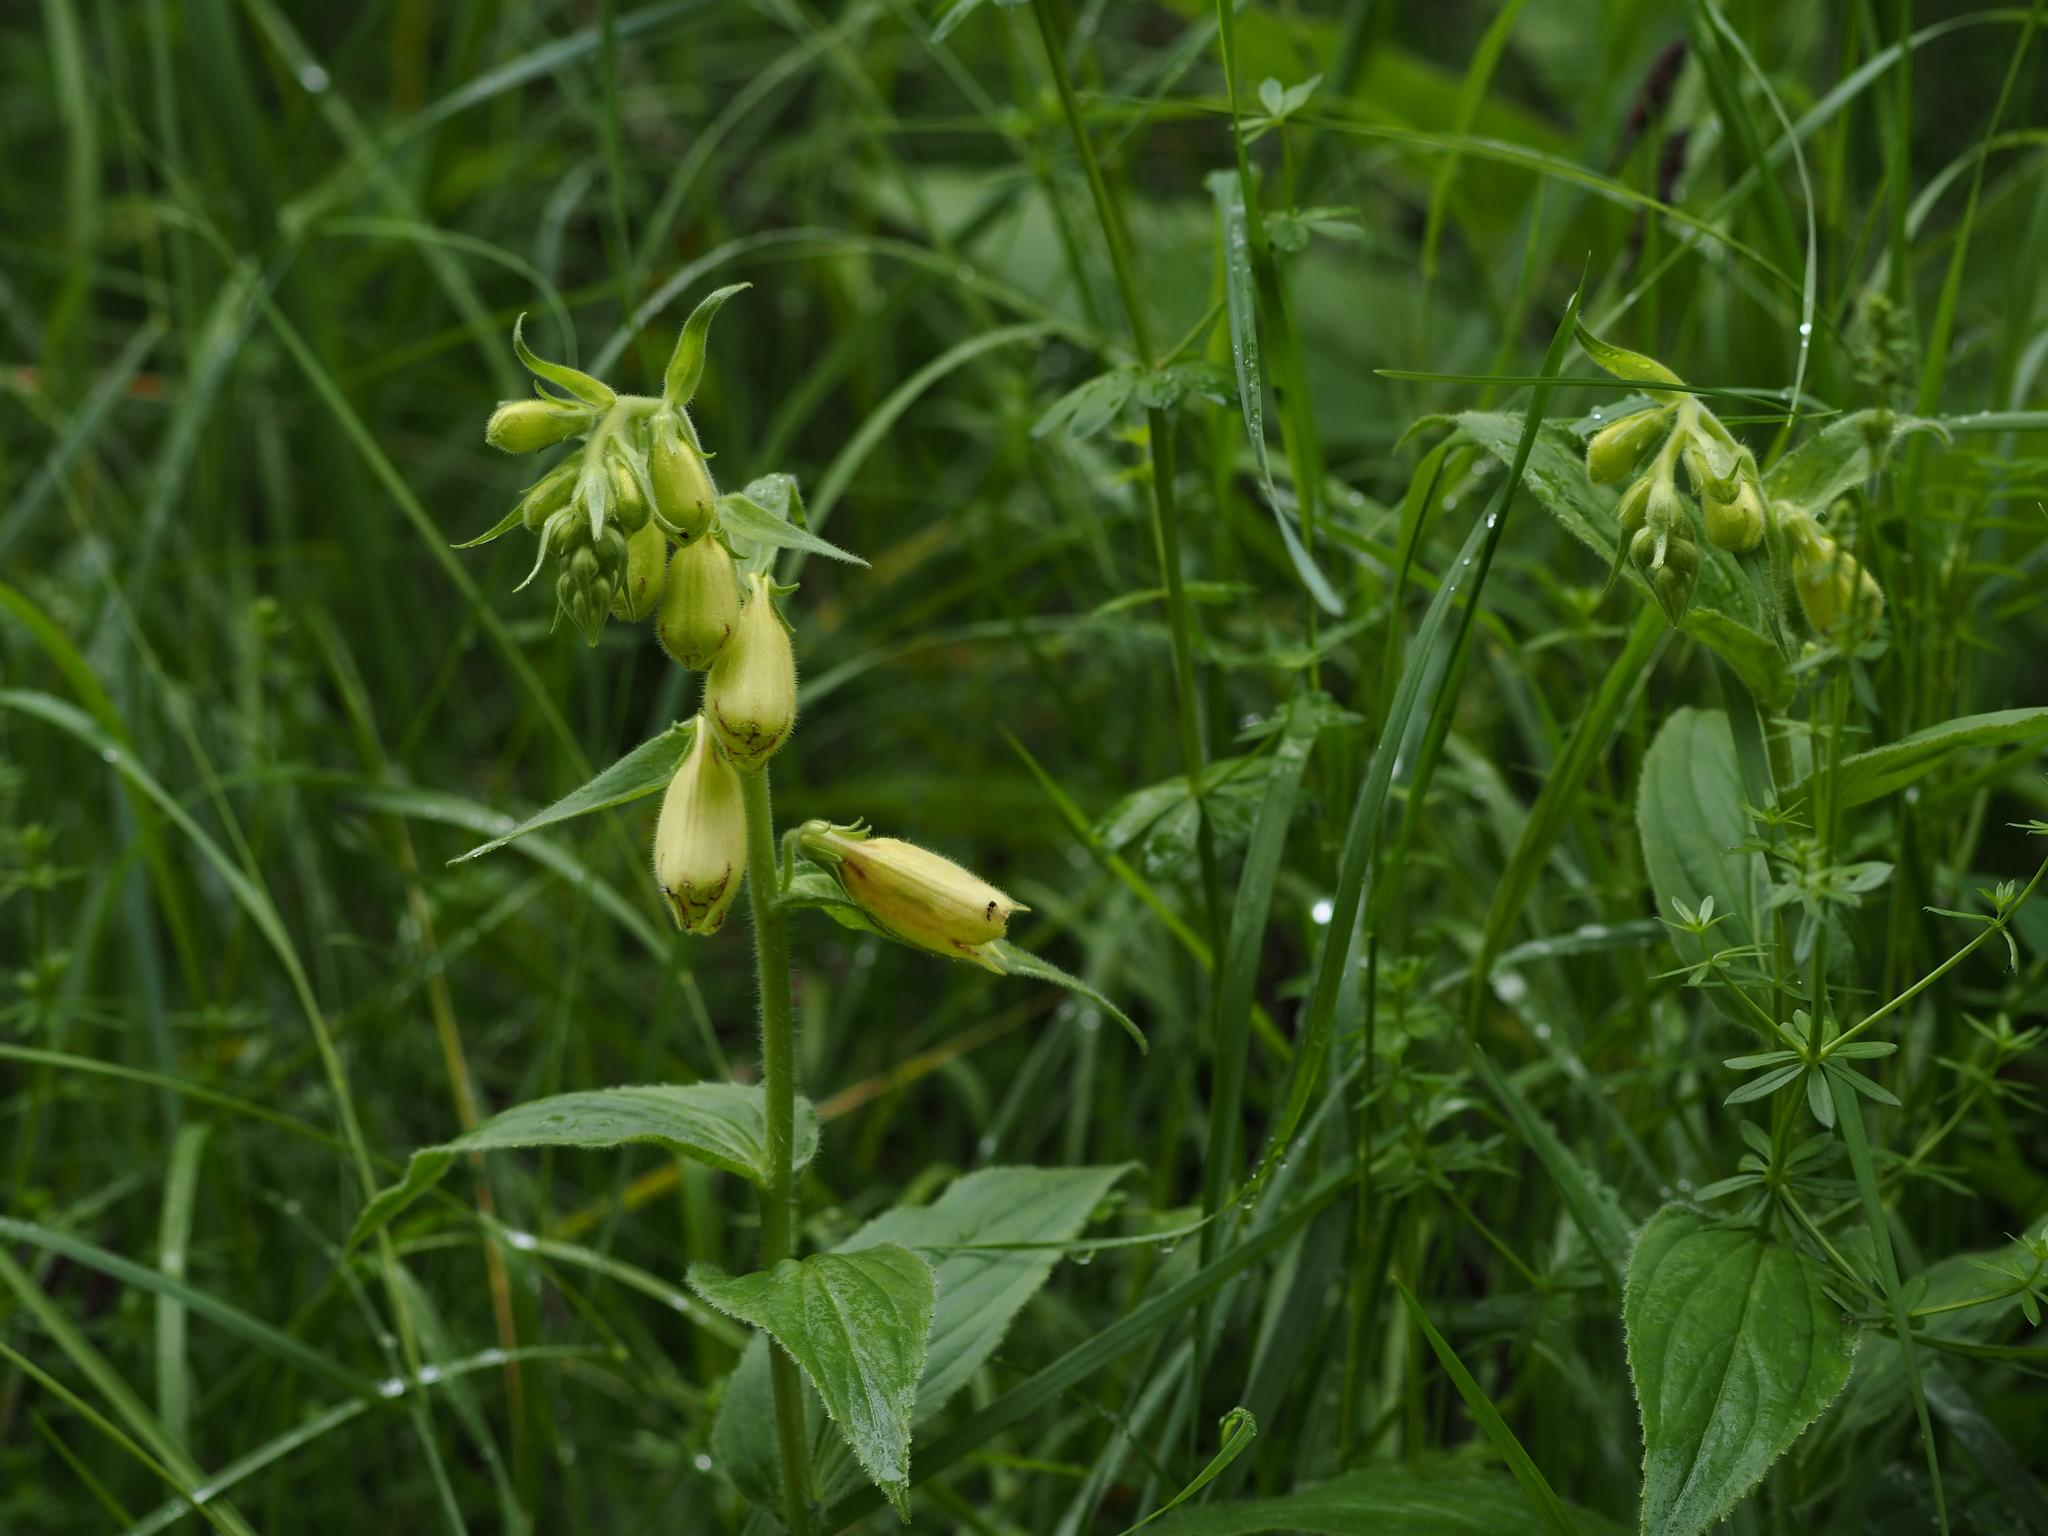Digitalis L: (452, 307, 1069, 1507)
